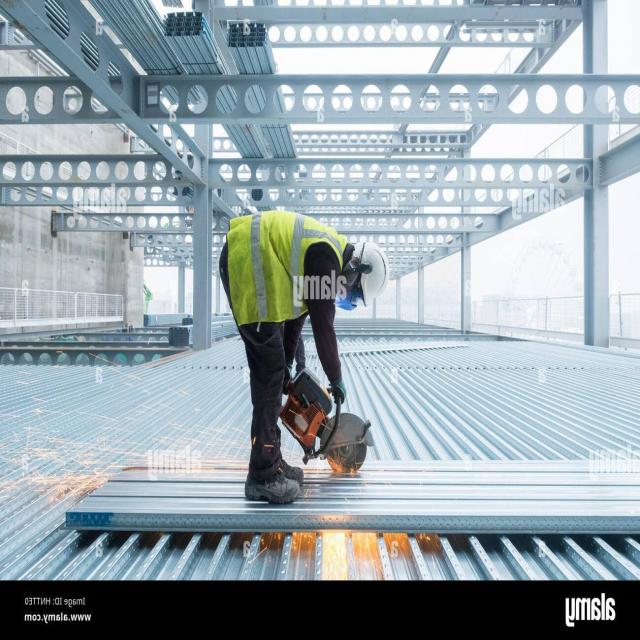Reflective-Jacket: (222, 206, 351, 328)
Safety-Helmet: (340, 239, 393, 311)
